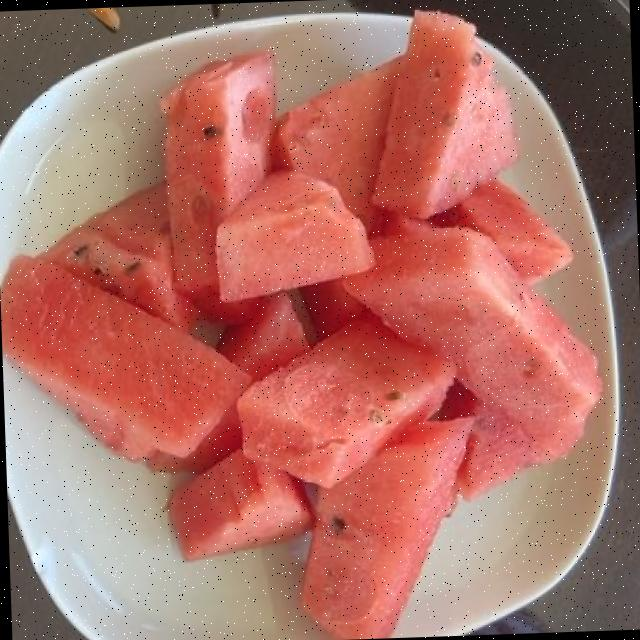watermelon-fresh: (35, 28, 596, 632)
